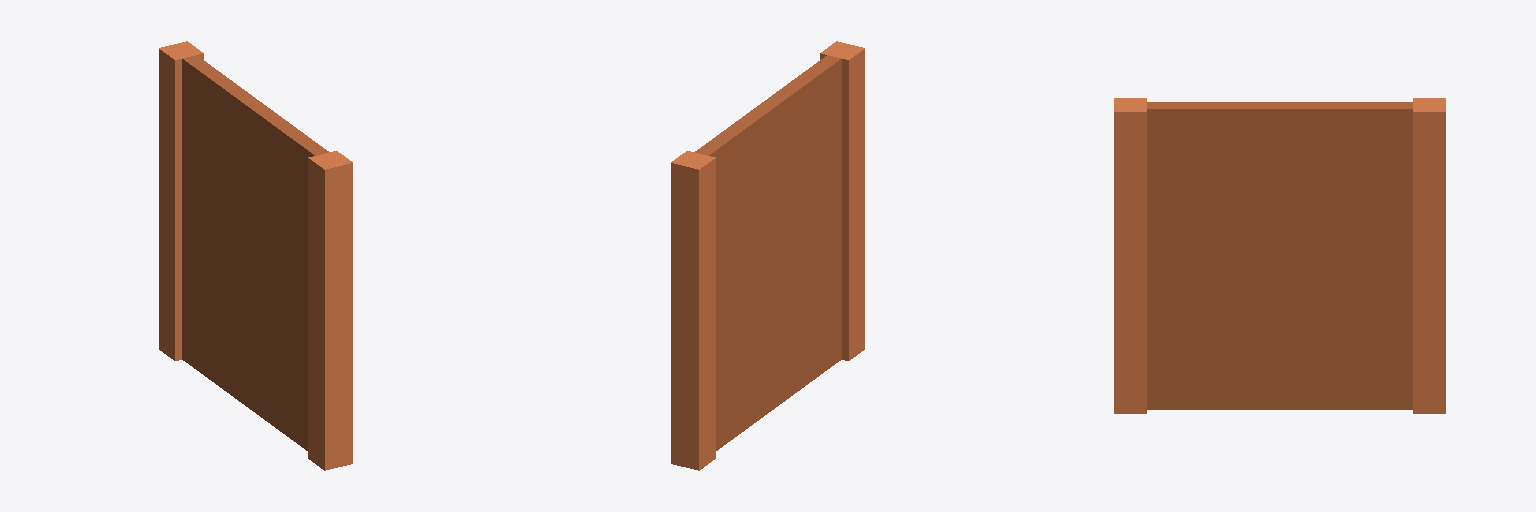
The model's file is wallWood.obj.
The picture shows the model from 3 angles: view 1: azimuth 30°, elevation 25°; view 2: azimuth 150°, elevation 25°; view 3: azimuth 270°, elevation 25°; orthographic projection.
Parts seen in each view (by area): view 1: wallWood; view 2: wallWood; view 3: wallWood.
Boxes of the visible parts, <box> form: wallWood: <box>159,41,352,470</box>; wallWood: <box>671,41,864,470</box>; wallWood: <box>1114,98,1445,413</box>.
Size of the model in its own units: 0.1 by 1 by 1.